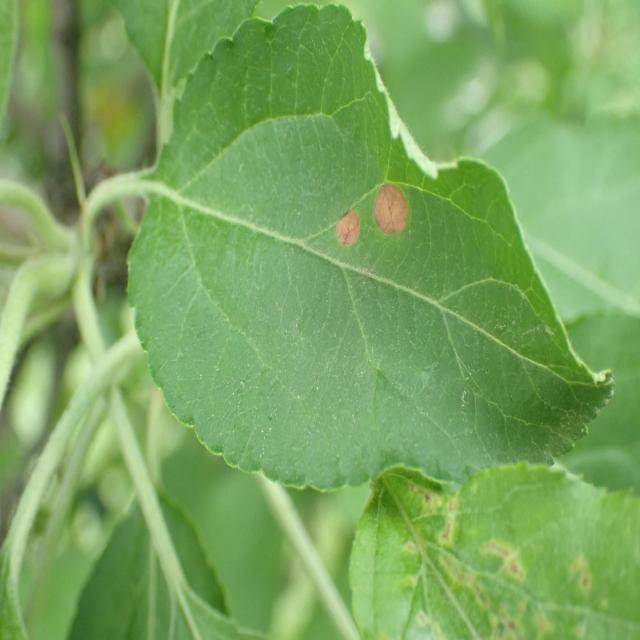Black Rot: (365, 164, 421, 252), (321, 192, 362, 272)
